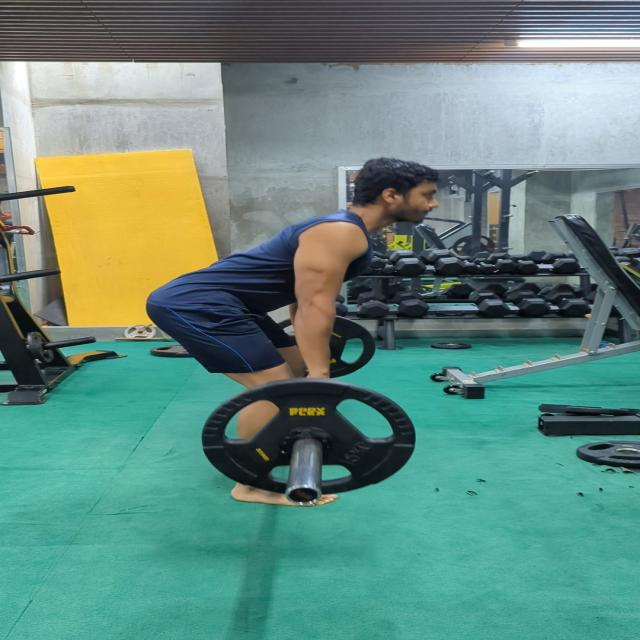Normal_Deadlifts: (143, 158, 441, 508)
